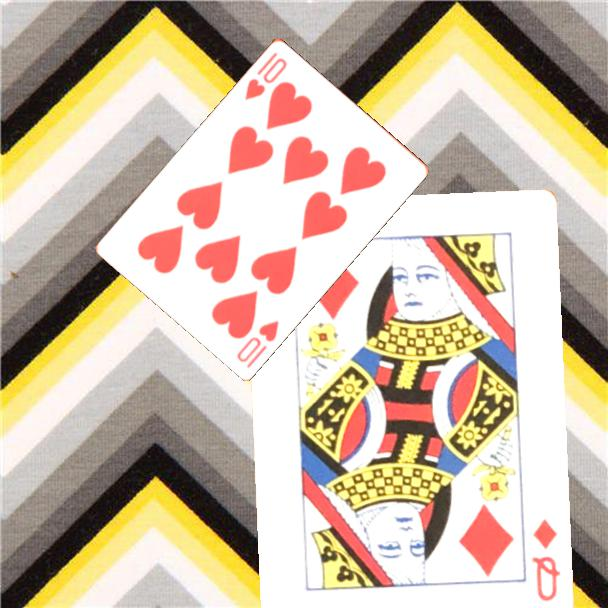d12: (529, 516, 564, 605)
h10: (241, 48, 290, 103), (233, 317, 282, 371)
